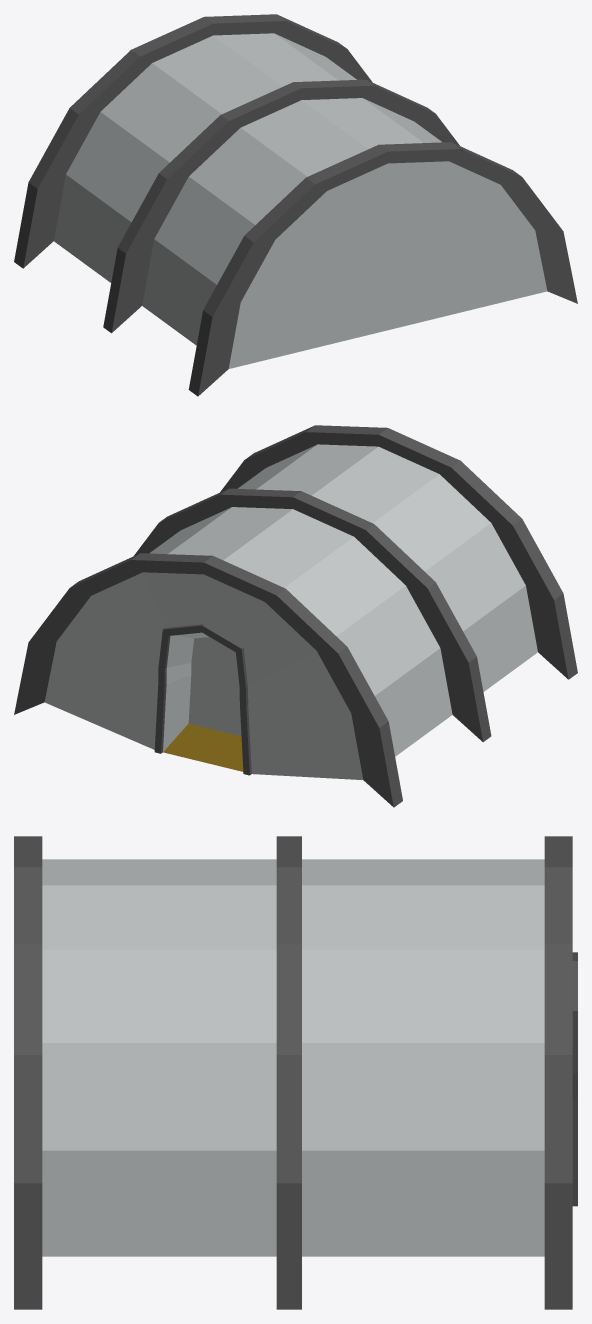
The model's file is bunker1.fbx.
The picture shows the model from 3 angles, top to bottom: view 1: azimuth 30°, elevation 25°; view 2: azimuth 150°, elevation 25°; view 3: azimuth 270°, elevation 25°; orthographic projection. The views are drawn at different scales.
Visible parts, largest first — view 1: bunker1; view 2: bunker1; view 3: bunker1.
Part boxes in pixels (left/top/right/bottom): bunker1: left=14, top=14, right=577, bottom=396; bunker1: left=14, top=425, right=577, bottom=807; bunker1: left=14, top=836, right=577, bottom=1309.
Bounding box in the file's own units: 9.53 × 4.8 × 8.08.
